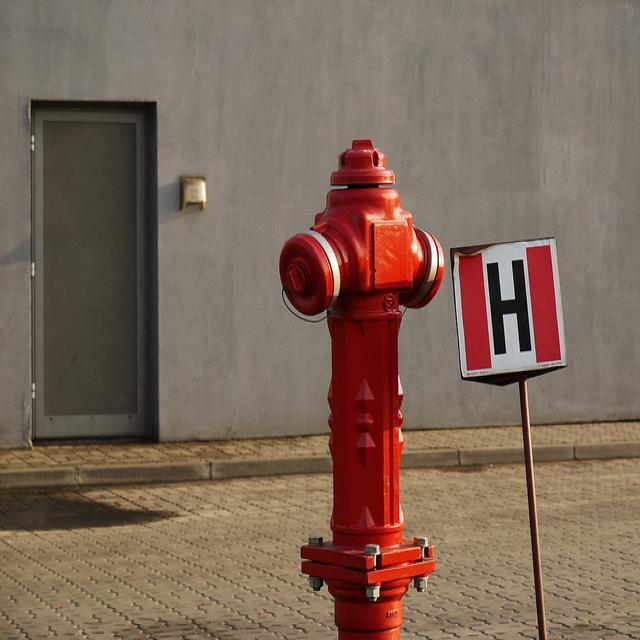fire_hydrant: (279, 138, 453, 632)
